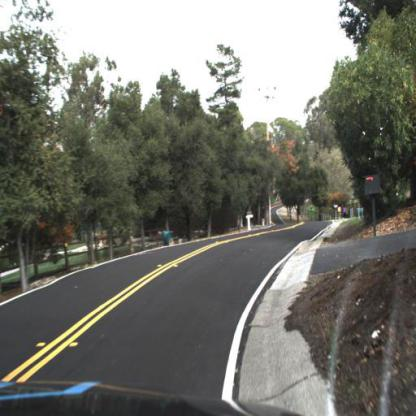pedestrian: (341, 203, 349, 221), (338, 203, 344, 221)
